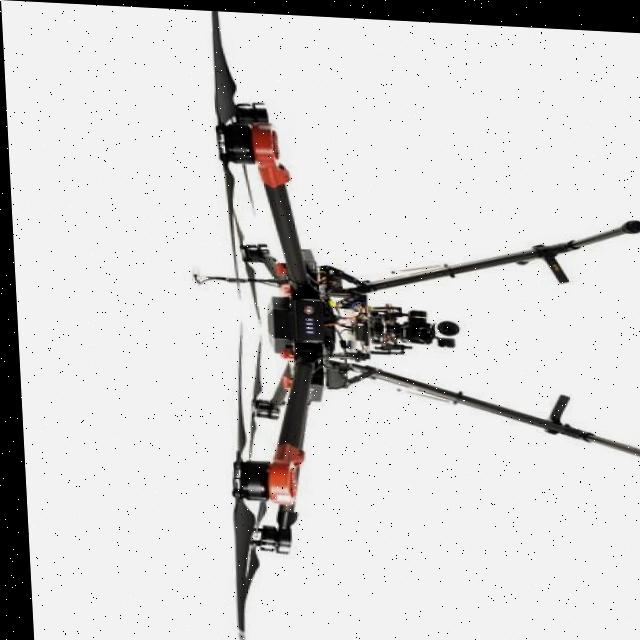drone: (178, 11, 394, 634)
